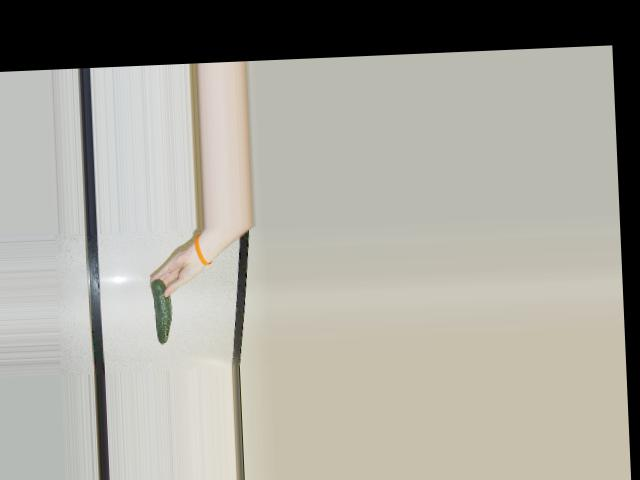cucumber: (150, 278, 172, 345)
